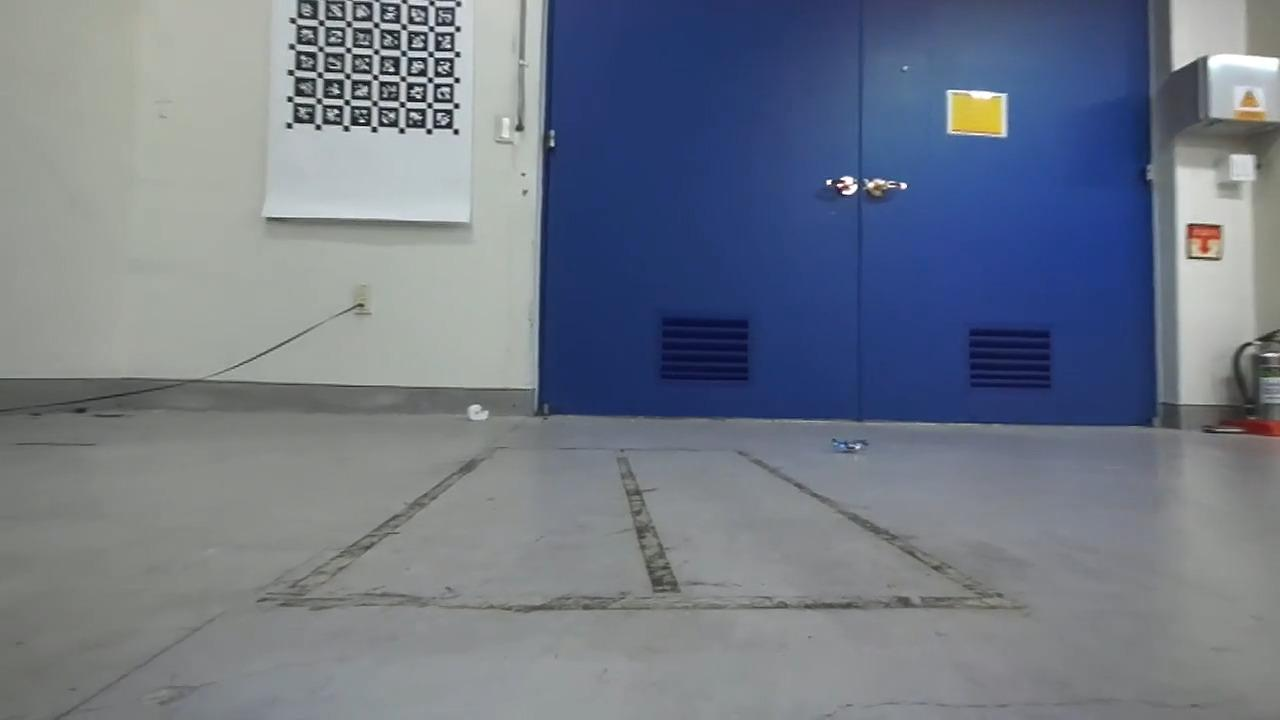crazyflie: (824, 433, 875, 458)
